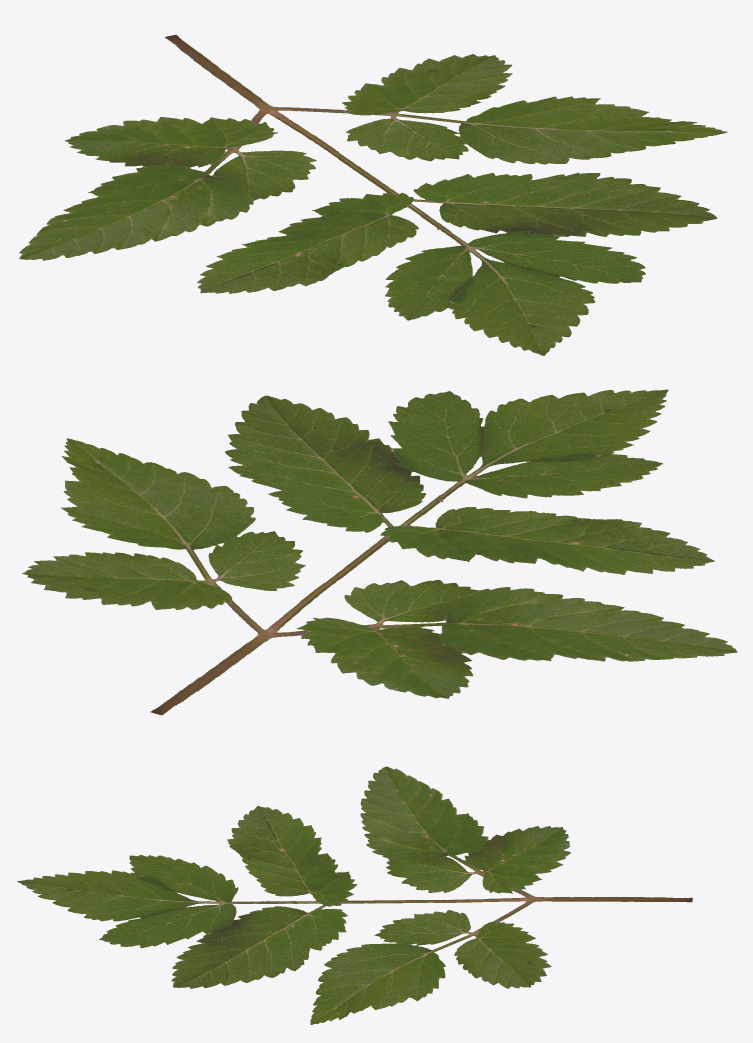
Rendered from foliage_branch.fbx.
The picture shows the model from 3 angles, top to bottom: view 1: azimuth 30°, elevation 25°; view 2: azimuth 150°, elevation 25°; view 3: azimuth 270°, elevation 25°; orthographic projection. The views are drawn at different scales.
Parts seen in each view (by area): view 1: branch; view 2: branch; view 3: branch.
Part boxes in pixels (bbox=[...]): branch: bbox=[19, 34, 727, 355]; branch: bbox=[22, 389, 737, 715]; branch: bbox=[17, 766, 692, 1024].
Size of the model in its own units: 1.14 by 0 by 1.33.
Materials: 1 (1 with a texture image).
